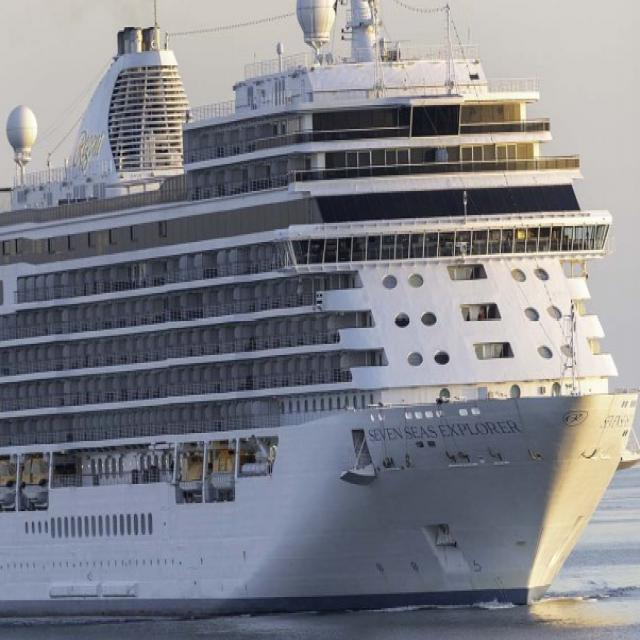cruises: (1, 1, 640, 638)
